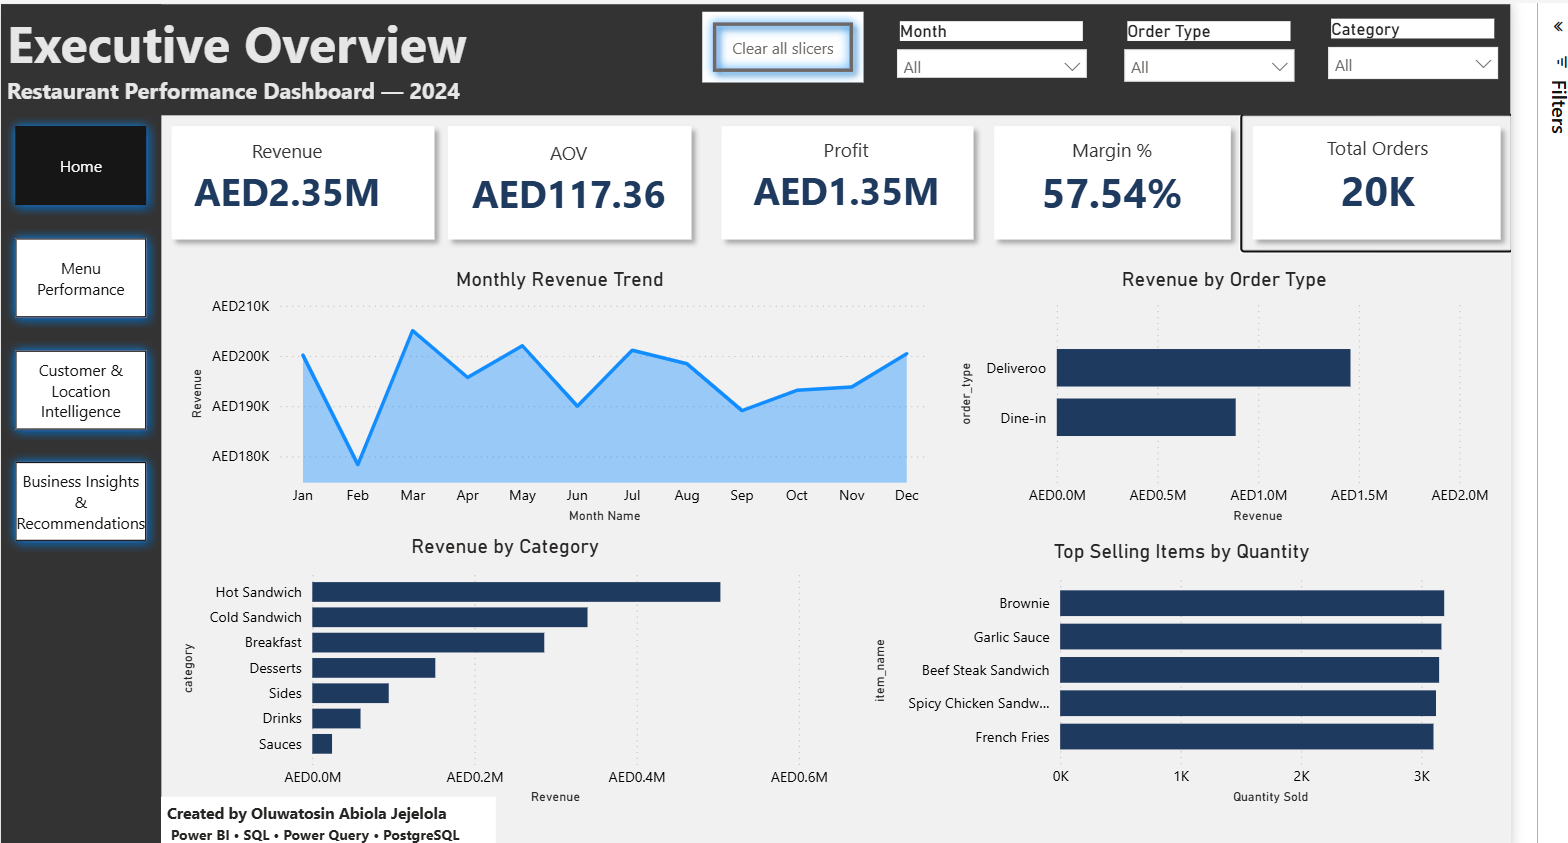

Layout of this report page (visuals, bound fields, positions):
{"tool":"powerbi","page":{"name":"Home","canvas":[1280,720],"ordinal":0},"visuals":[{"type":"group","id":"g1","title":"Background","box":[0,1,1280.2,717.4],"z":0},{"type":"shape","box":[136,95.4,240.7,114],"z":0,"group":"g1"},{"type":"cardVisual","fields":{"Data":["orders.Revenue"]},"box":[115.1,86,254.7,122.1],"z":1000},{"type":"shape","box":[369.8,95.4,224.4,114],"z":1000,"group":"g1"},{"type":"cardVisual","fields":{"Data":["orders.Total Orders"]},"box":[1067.4,93,200,107],"z":2000},{"type":"shape","box":[602.3,95.4,231.4,114],"z":2000,"group":"g1"},{"type":"shape","box":[833.7,95.4,218.6,114],"z":3000,"group":"g1"},{"type":"barChart","title":"Revenue by Category","fields":{"Y":["orders.Revenue"],"Category":["order_items.category"]},"box":[148.9,450.3,558.3,234.1],"z":3000},{"type":"shape","box":[1052.3,95.4,227.9,114],"z":4000,"group":"g1"},{"type":"barChart","title":"Revenue by Order Type","fields":{"Category":["orders.order_type"],"Y":["orders.Revenue"]},"box":[808.1,223.3,459.3,222.1],"z":4000},{"type":"shape","box":[0,1.2,1280.2,94.2],"z":5000,"group":"g1"},{"type":"cardVisual","fields":{"Data":["orders.AOV"]},"box":[368.6,95.3,225.6,107],"z":5000},{"type":"shape","box":[0,1,136,717.4],"z":6000,"group":"g1"},{"type":"cardVisual","fields":{"Data":["orders.Profit"]},"box":[594.4,93.7,245,106.9],"z":6000},{"type":"cardVisual","fields":{"Data":["orders.Margin %"]},"box":[833.7,94.2,218.6,107],"z":7000},{"type":"lineChart","title":"Monthly Revenue Trend","fields":{"Y":["orders.Revenue"],"Category":["Date Table.Month Name"]},"box":[155.8,223.3,636,222.1],"z":8000},{"type":"clusteredBarChart","title":"Top Selling Items by Quantity","fields":{"Category":["menu.item_name"],"Y":["Sum(order_items.quantity)"]},"box":[734.9,455.1,533.1,229.3],"z":9000},{"type":"actionButton","box":[594.4,7,136.9,60],"z":9004,"group":"g1"},{"type":"textbox","box":[0,0,403.5,93.7],"z":10000},{"type":"slicer","fields":{"Values":["Date Table.Month Name"]},"box":[749.3,10.8,181.3,52.8],"z":11000},{"type":"slicer","fields":{"Values":["orders.order_type"]},"box":[942.6,10.8,164.5,66],"z":12000},{"type":"slicer","fields":{"Values":["menu.category"]},"box":[1115.5,8.4,164.5,76.8],"z":13000},{"type":"textbox","box":[136,673.3,283.7,45.3],"z":14000},{"type":"pageNavigator","box":[3.6,95.6,129.5,373.8],"z":15000}]}

Visuals, with their boxes on the page's 1280x720 design canvas (x1, y1, x2, y2). These are canvas units, not pixel positions in the 1568x843 screenshot, which may show the page scaled, cropped or inside an application window:
"Background" group: select_region(0, 1, 1280, 718)
shape: select_region(136, 95, 377, 209)
cardVisual - orders.Revenue: select_region(115, 86, 370, 208)
shape: select_region(370, 95, 594, 209)
cardVisual - orders.Total Orders: select_region(1067, 93, 1267, 200)
shape: select_region(602, 95, 834, 209)
shape: select_region(834, 95, 1052, 209)
"Revenue by Category" barChart: select_region(149, 450, 707, 684)
shape: select_region(1052, 95, 1280, 209)
"Revenue by Order Type" barChart: select_region(808, 223, 1267, 445)
shape: select_region(0, 1, 1280, 95)
cardVisual - orders.AOV: select_region(369, 95, 594, 202)
shape: select_region(0, 1, 136, 718)
cardVisual - orders.Profit: select_region(594, 94, 839, 201)
cardVisual - orders.Margin %: select_region(834, 94, 1052, 201)
"Monthly Revenue Trend" lineChart: select_region(156, 223, 792, 445)
"Top Selling Items by Quantity" clusteredBarChart: select_region(735, 455, 1268, 684)
actionButton: select_region(594, 7, 731, 67)
textbox: select_region(0, 0, 404, 94)
slicer - Date Table.Month Name: select_region(749, 11, 931, 64)
slicer - orders.order_type: select_region(943, 11, 1107, 77)
slicer - menu.category: select_region(1116, 8, 1280, 85)
textbox: select_region(136, 673, 420, 719)
pageNavigator: select_region(4, 96, 133, 469)
